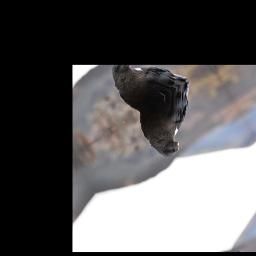Crow: (132, 79, 219, 165)
